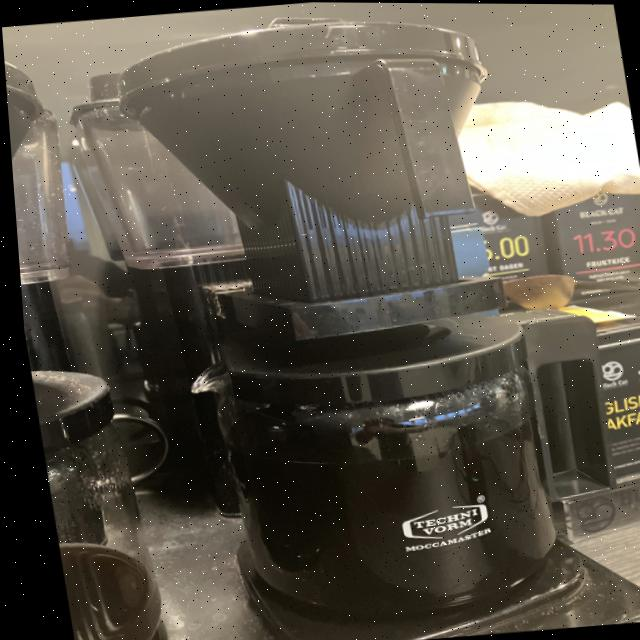coffee: (178, 293, 611, 639), (22, 341, 195, 640)
